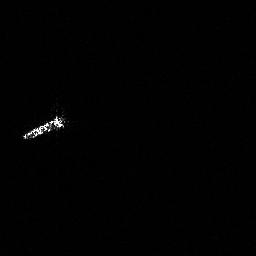ship: (18, 109, 70, 142)
